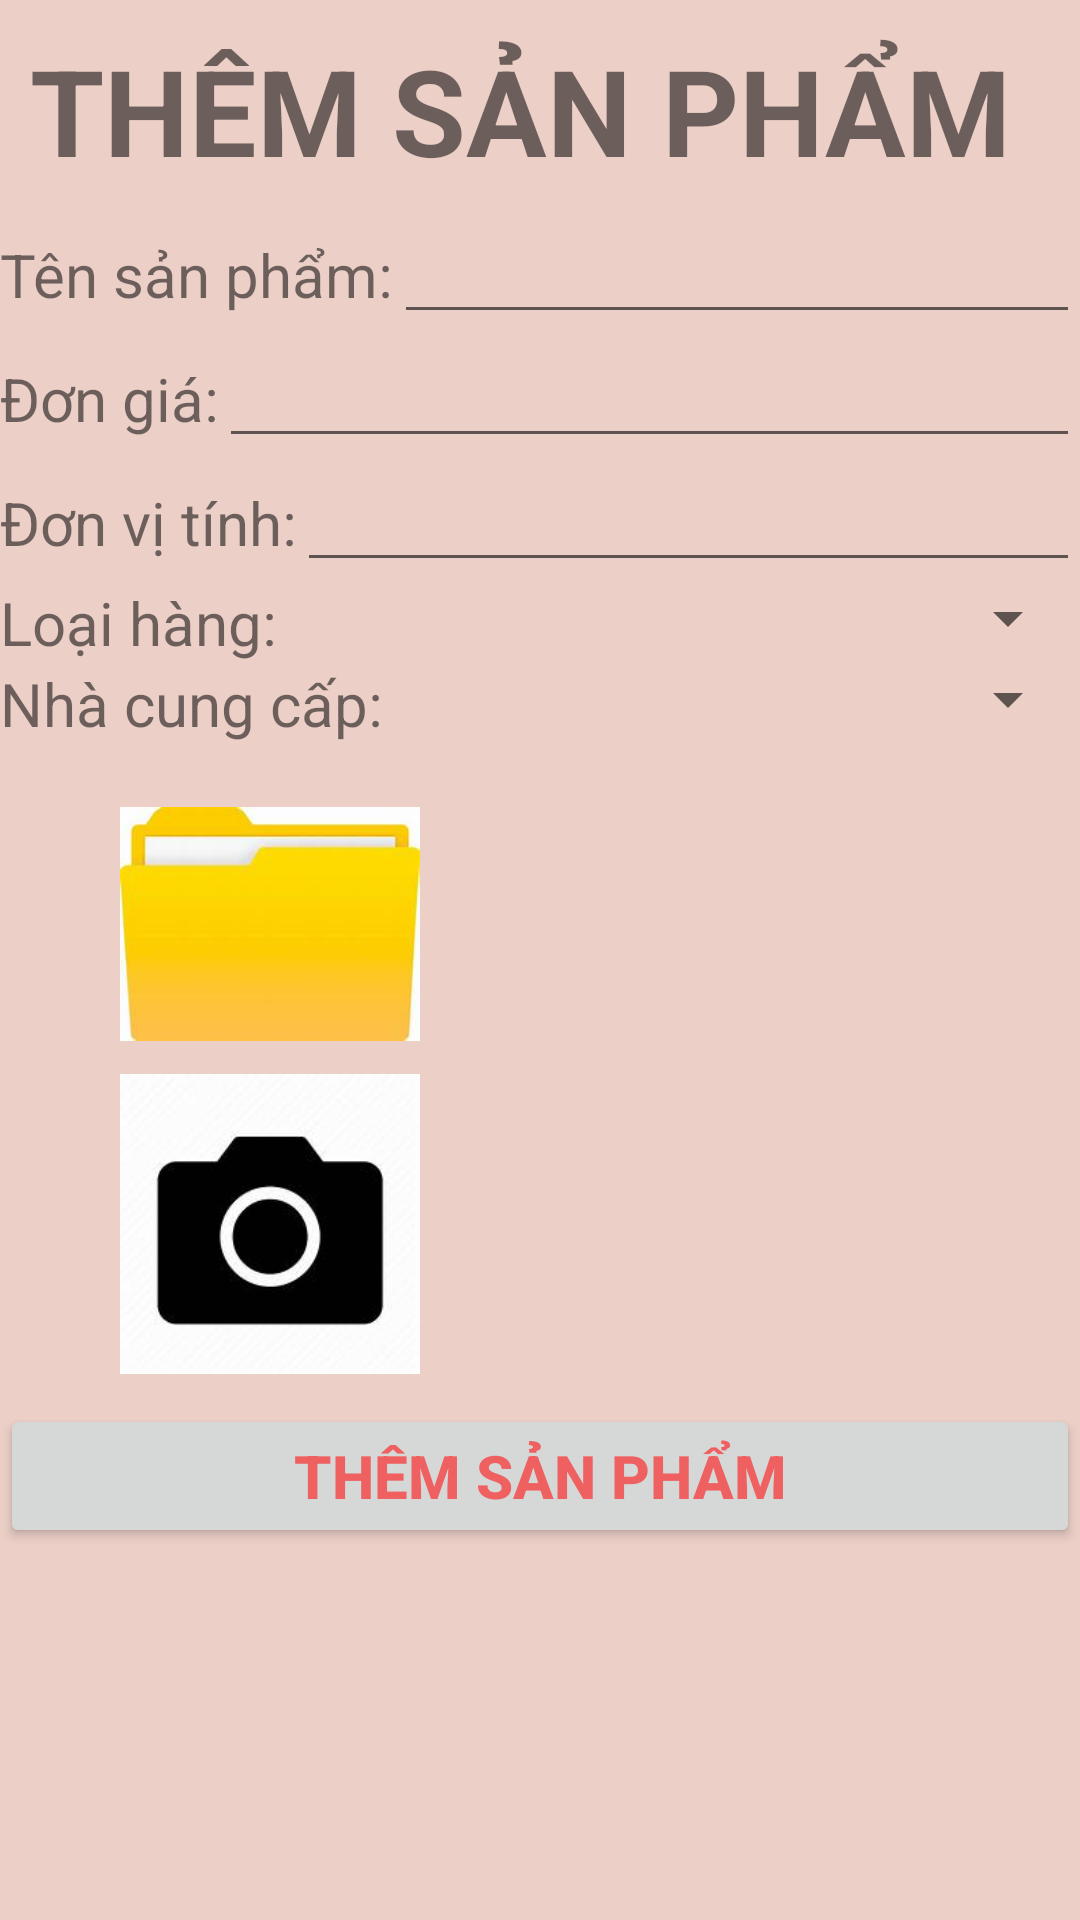

Screen size 1080w x 1920h. Icon name, then its center in pixels as (x,y):
cam: (270,1224)
folder: (270,924)
